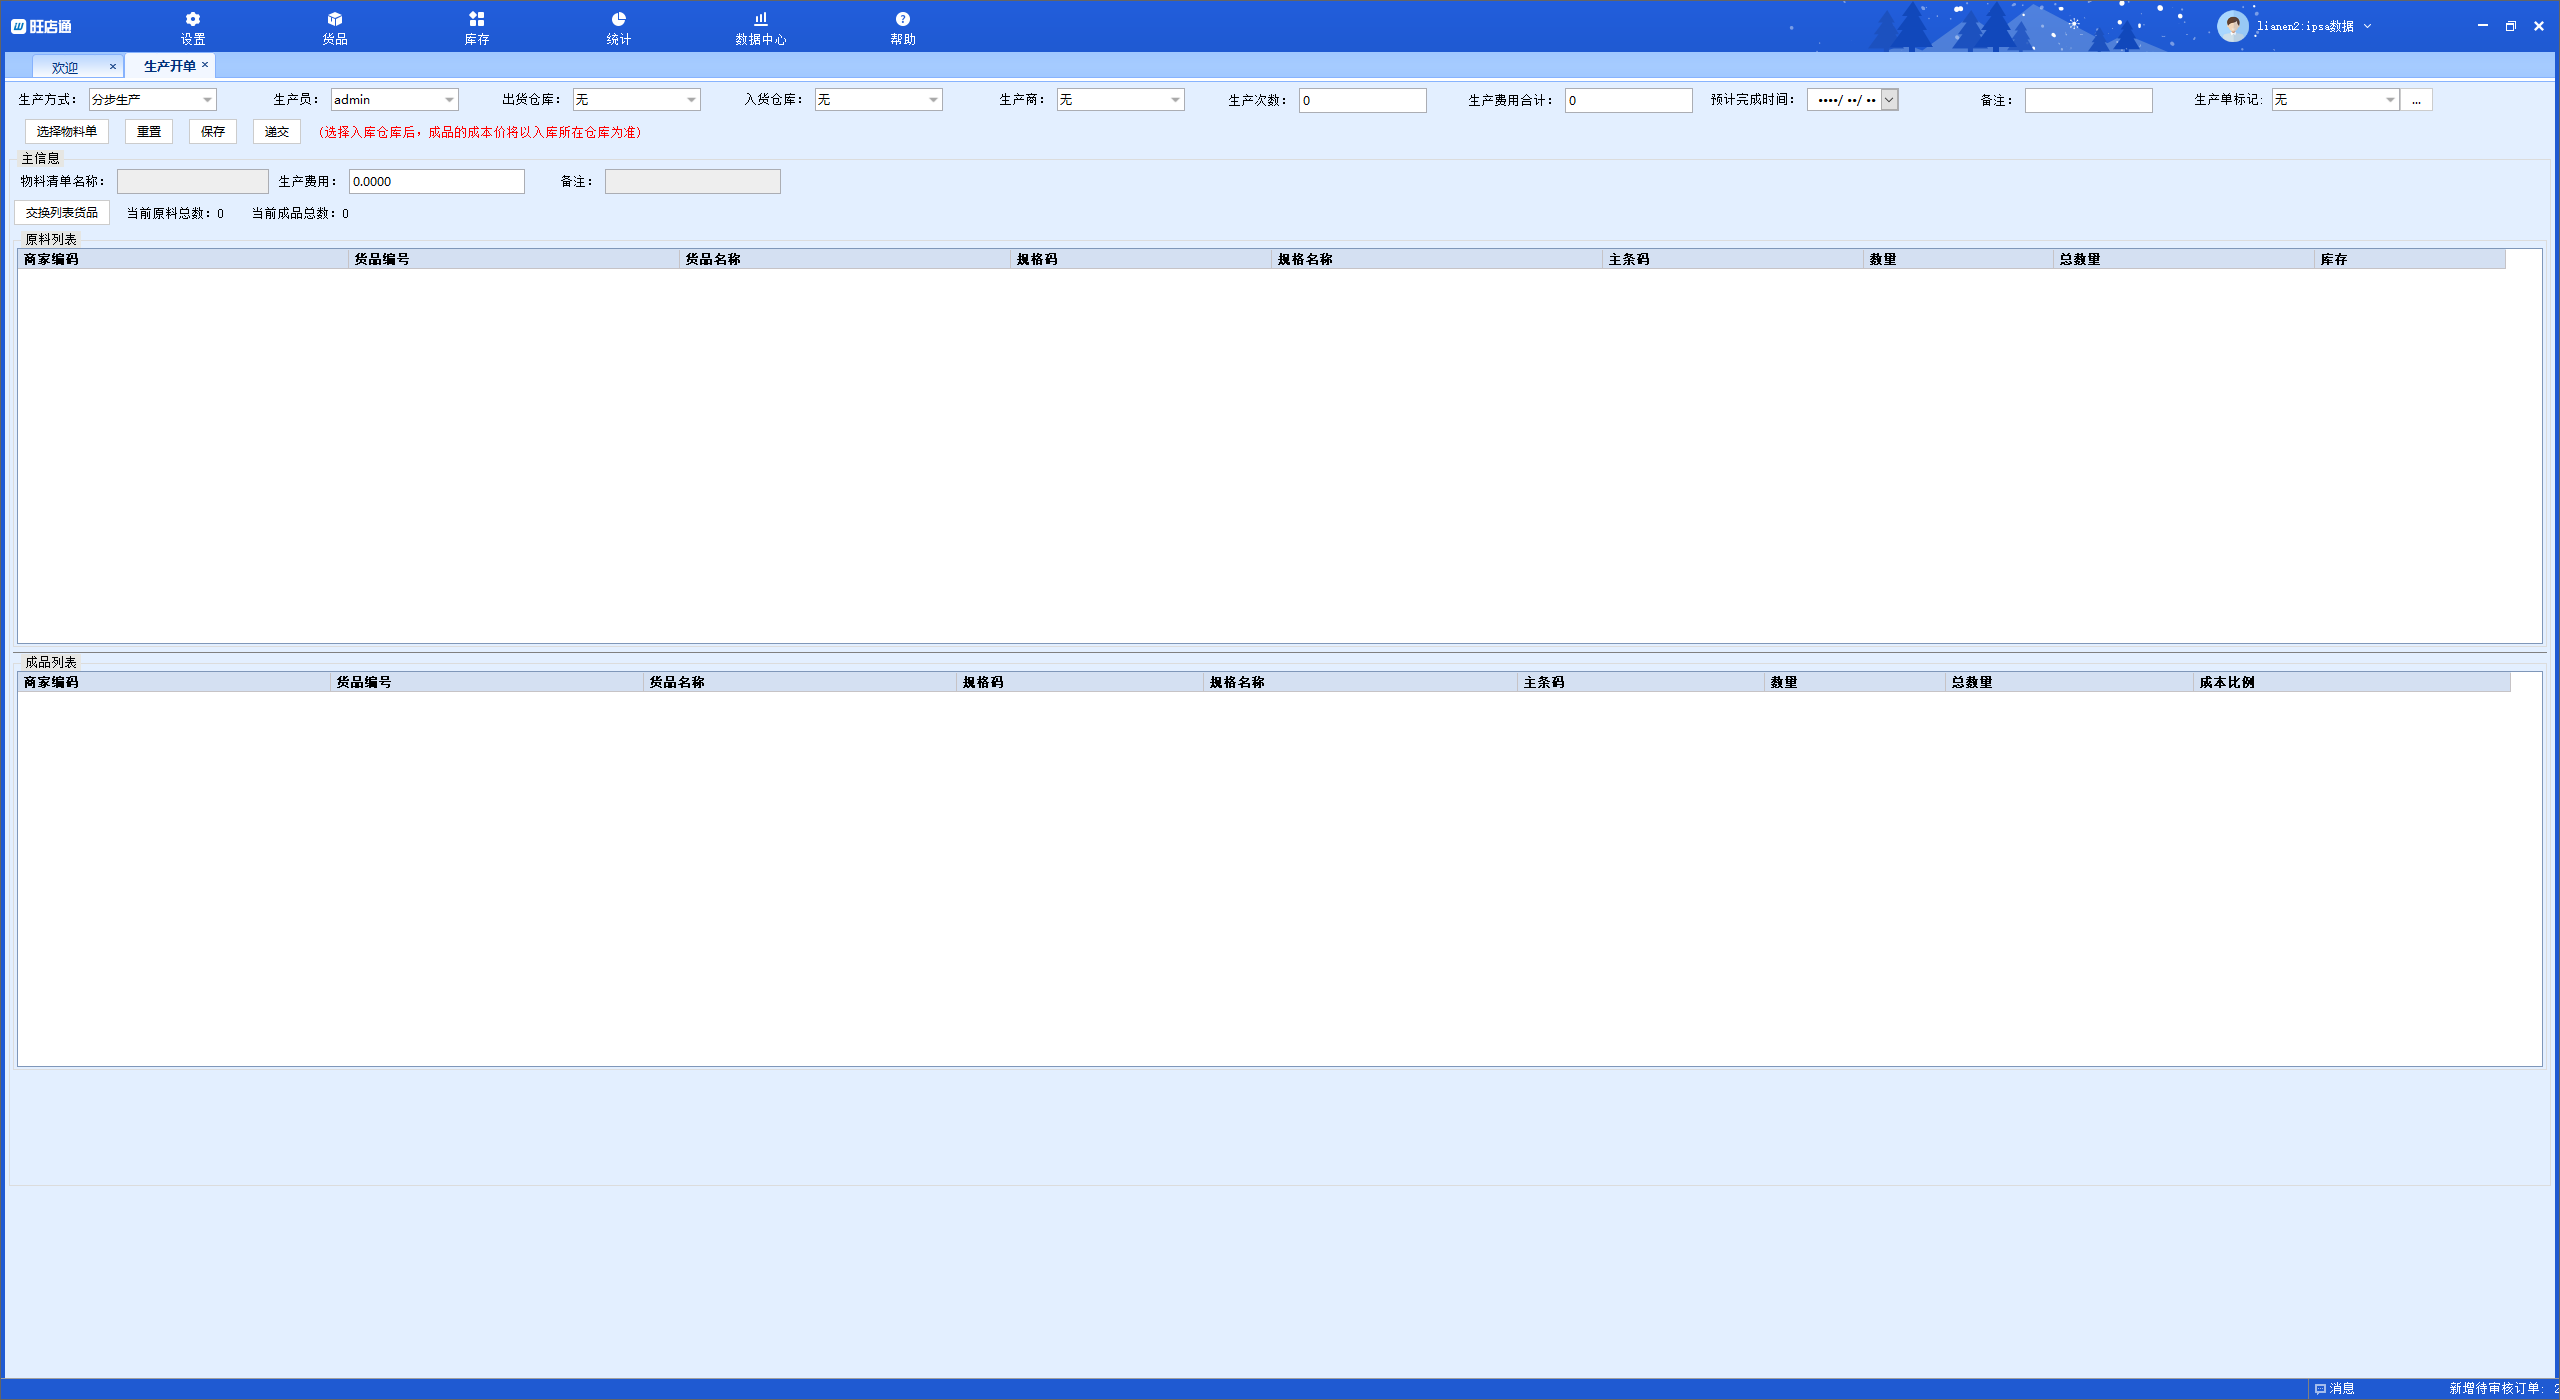character: (317, 122, 652, 145), (2258, 14, 2358, 38), (1707, 86, 1796, 110), (1469, 86, 1553, 110), (121, 203, 228, 221), (2444, 1381, 2560, 1397), (738, 86, 807, 112), (253, 203, 355, 221), (21, 203, 102, 221), (353, 248, 426, 267), (990, 86, 1050, 109), (17, 174, 103, 190), (1226, 90, 1289, 110), (1812, 88, 1876, 109), (641, 672, 710, 691), (2193, 90, 2263, 107), (1946, 671, 2001, 691), (1207, 672, 1265, 691), (2196, 672, 2255, 691), (21, 674, 84, 691), (1277, 250, 1345, 266), (279, 172, 340, 190), (1603, 250, 1657, 269), (31, 14, 76, 36), (90, 91, 153, 107), (679, 252, 750, 266), (1014, 248, 1064, 267), (1520, 672, 1570, 691), (21, 653, 79, 669), (38, 124, 102, 138), (21, 252, 84, 266), (329, 90, 379, 107), (2057, 248, 2107, 266), (43, 57, 88, 76), (552, 171, 596, 190), (733, 34, 793, 48), (17, 91, 78, 105), (503, 91, 564, 105), (267, 90, 321, 105), (350, 171, 398, 186), (26, 231, 78, 245), (1864, 252, 1905, 269), (336, 676, 395, 688), (1765, 674, 1810, 690), (958, 676, 1008, 690), (136, 59, 193, 71), (1976, 91, 2015, 109), (17, 152, 64, 166), (459, 33, 493, 48), (2320, 252, 2355, 267), (888, 34, 921, 48), (197, 124, 229, 138), (264, 124, 290, 141), (317, 34, 353, 47), (600, 34, 634, 47), (134, 124, 164, 138), (1060, 90, 1083, 107), (1565, 91, 1588, 109), (178, 34, 210, 45), (1302, 91, 1321, 109), (2338, 1381, 2357, 1398), (572, 91, 593, 107), (817, 91, 840, 105), (2276, 91, 2289, 105)
icon: (2215, 9, 2251, 43), (750, 9, 771, 29), (1879, 88, 1900, 109), (2405, 90, 2427, 109), (465, 9, 486, 28), (183, 9, 202, 28), (610, 9, 629, 28), (893, 9, 912, 28), (2312, 1379, 2331, 1398), (198, 90, 215, 109), (326, 10, 345, 28), (9, 17, 28, 34), (926, 90, 941, 109), (441, 91, 457, 109), (683, 91, 700, 107), (1167, 91, 1183, 109), (2503, 17, 2519, 33), (2531, 17, 2546, 33), (107, 57, 121, 74), (197, 59, 210, 72), (2382, 91, 2396, 105), (2476, 17, 2489, 31), (2363, 17, 2376, 31)
